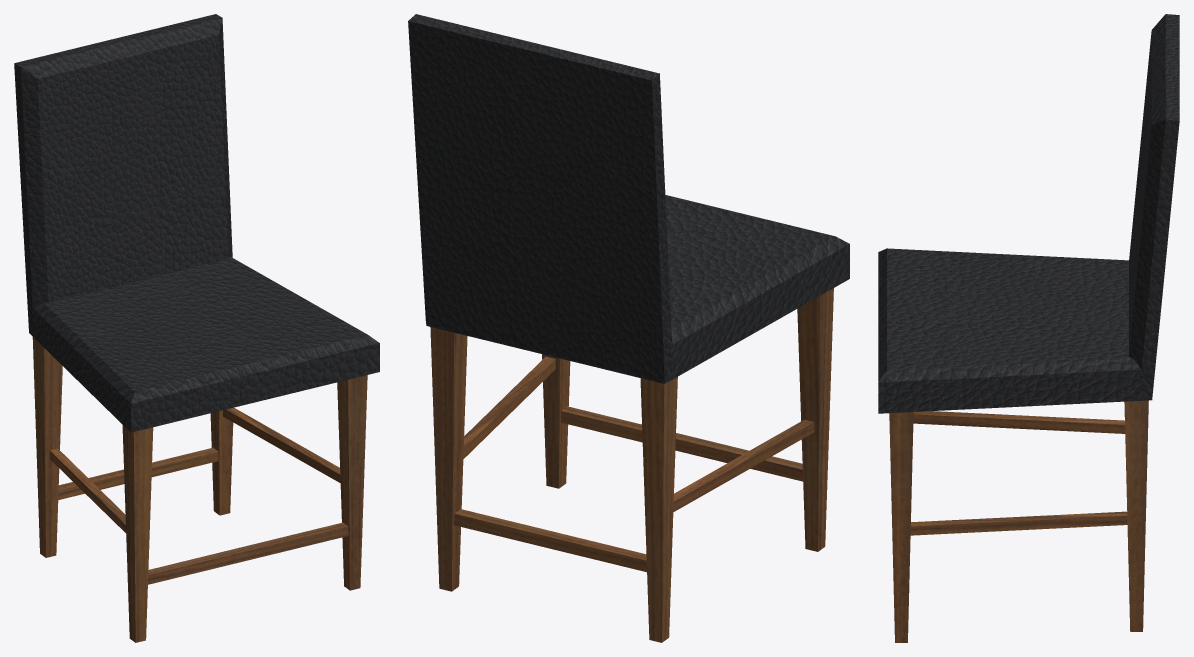
File: stol.fbx
3 renders of one model, left to right at view 1: azimuth 30°, elevation 25°; view 2: azimuth 150°, elevation 25°; view 3: azimuth 270°, elevation 25°, orthographic. The views are drawn at different scales.
Parts seen in each view (by area): view 1: polySurface4; view 2: polySurface4; view 3: polySurface4.
Part boxes in pixels (x1,y1,x2,y2): polySurface4: (14, 14, 379, 642); polySurface4: (408, 14, 849, 642); polySurface4: (878, 14, 1179, 642).
Size of the model in its own units: 1 by 1.85 by 0.976.
